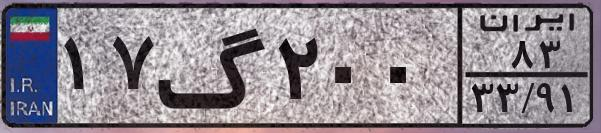0: (385, 28, 445, 110), (330, 28, 385, 110)
1: (57, 26, 110, 100), (560, 70, 590, 125)
2: (270, 28, 330, 110)
3: (537, 27, 568, 80), (470, 70, 495, 125), (495, 70, 520, 125)
7: (110, 28, 156, 98)
8: (508, 27, 537, 80)
9: (535, 70, 560, 125)
گ: (156, 12, 270, 120)
